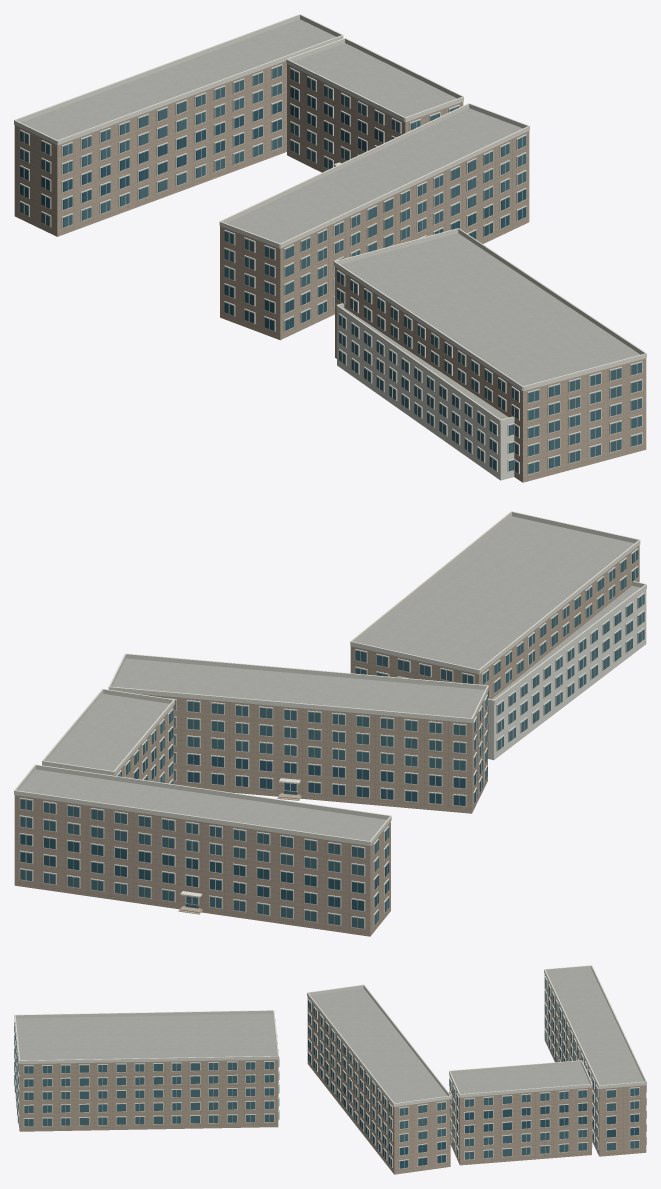
File: chunk-n3-p2.glb
The picture shows the model from 3 angles, top to bottom: view 1: azimuth 30°, elevation 25°; view 2: azimuth 150°, elevation 25°; view 3: azimuth 270°, elevation 25°; orthographic projection. The views are drawn at different scales.
Parts seen in each view (by area): view 1: chunk-n3-p2; view 2: chunk-n3-p2; view 3: chunk-n3-p2.
Boxes of the visible parts, <box> form: chunk-n3-p2: <box>14,14,646,482</box>; chunk-n3-p2: <box>14,511,646,936</box>; chunk-n3-p2: <box>14,965,646,1174</box>.
Bounding box in the file's own units: 74.07 × 19.76 × 144.
Materials: 5 (2 with a texture image).
